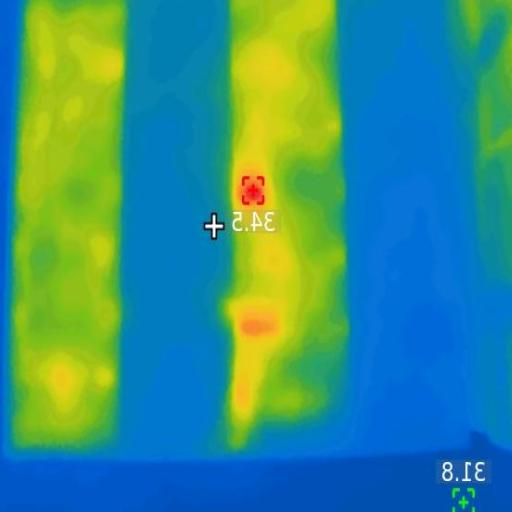hotspot: (234, 170, 269, 218)
